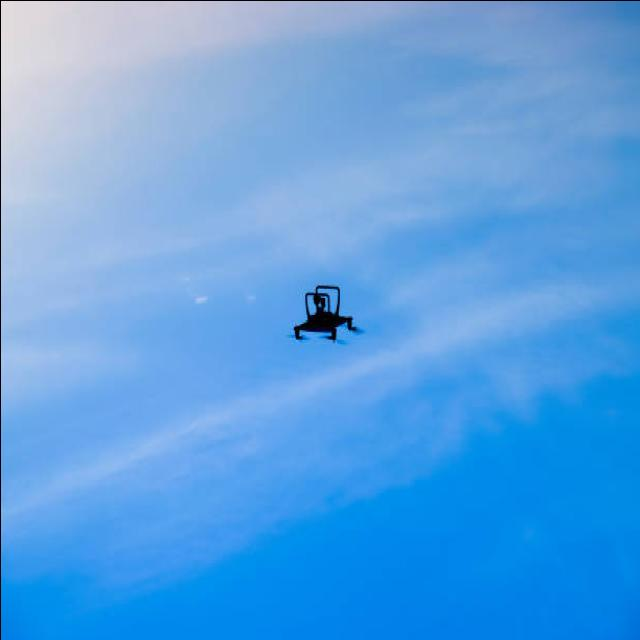drone: (290, 284, 364, 346)
